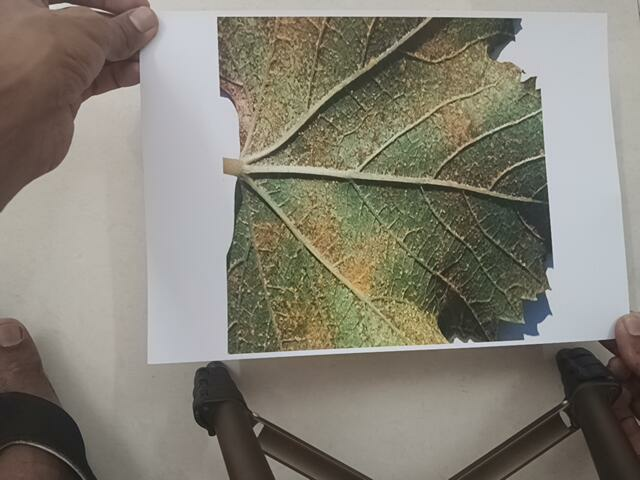Grape_Rust_Fungus: (217, 19, 568, 349)
